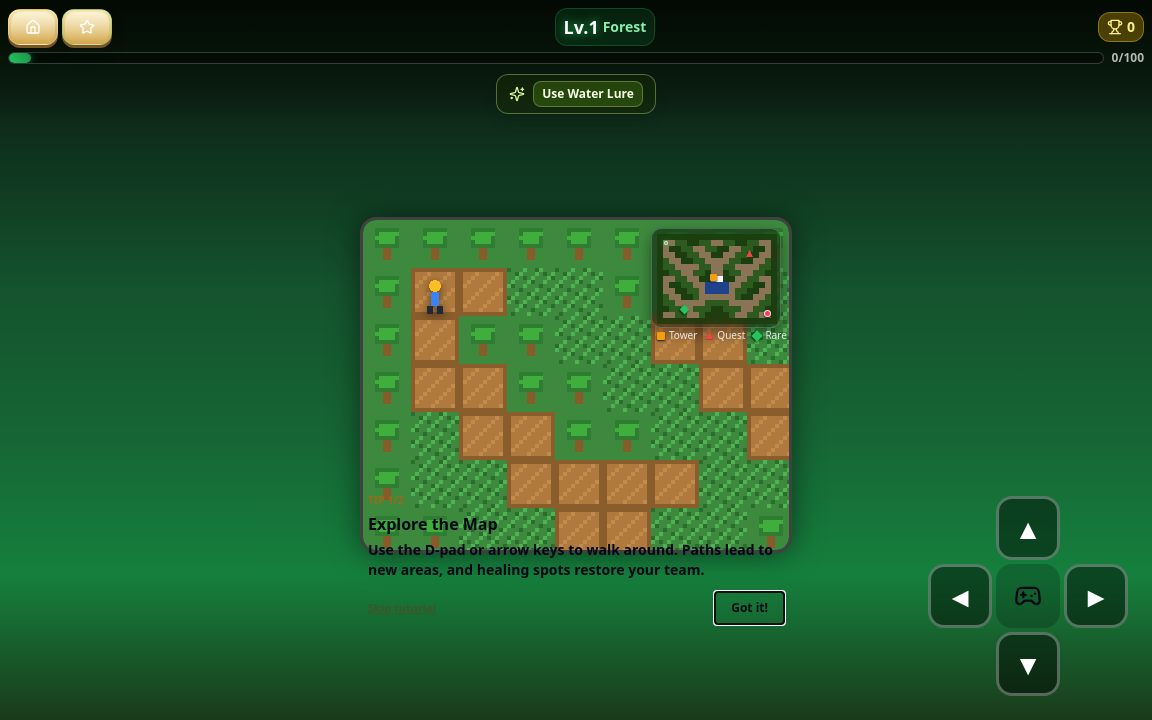
Test: Browse Page › should activate a lure from inventory and show remaining encounter boosts
The width and height of the screenshot is (1152, 720).
Click the button "Use Water Lure": [588, 94] box [533,81,643,107]
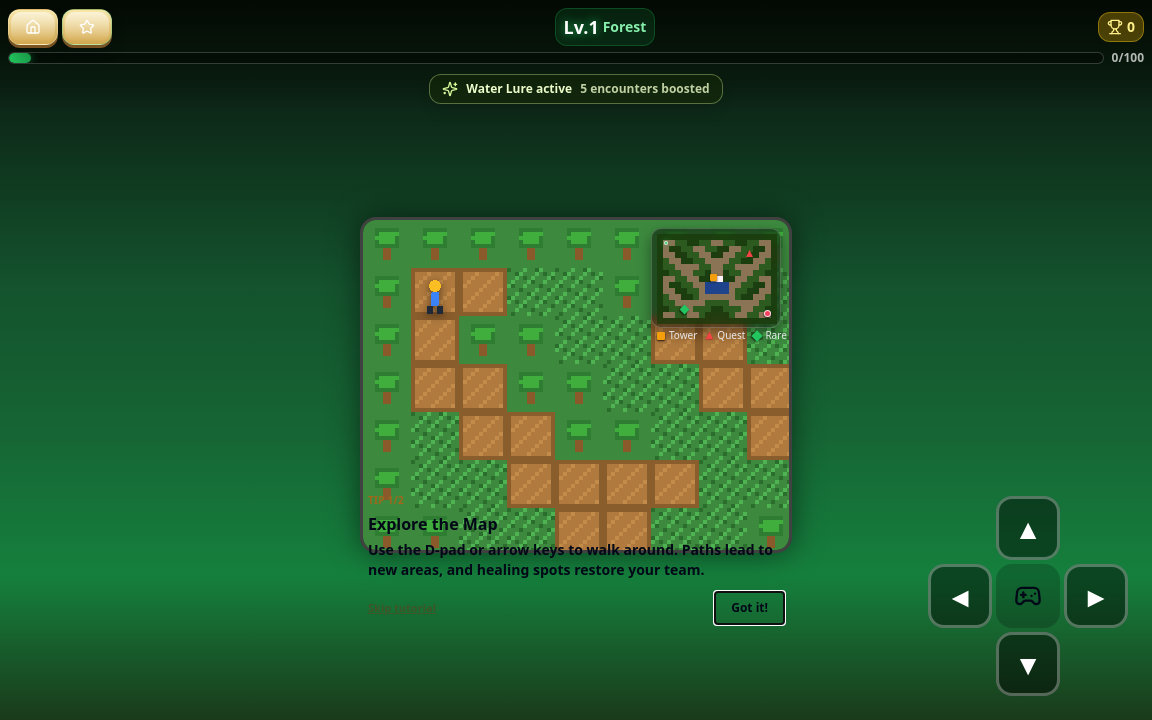
Now the text "Water Lure active" is shown, box [466,81,572,97]
Now the text "5 encounters boosted" is shown, box [580,81,710,97]
